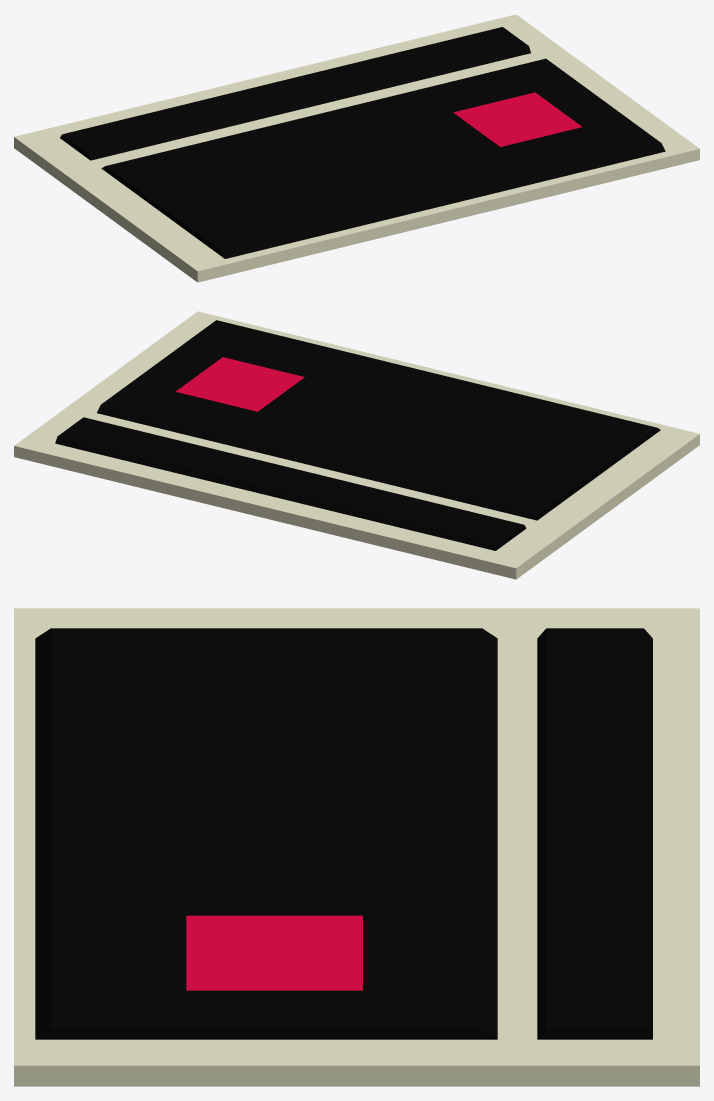
The model's file is StoveFire.fbx.
The picture shows the model from 3 angles, top to bottom: view 1: azimuth 30°, elevation 25°; view 2: azimuth 150°, elevation 25°; view 3: azimuth 270°, elevation 25°; orthographic projection. The views are drawn at different scales.
Visible parts, largest first — view 1: StoveFire1; view 2: StoveFire1; view 3: StoveFire1.
Part boxes in pixels (x1,y1,x2,y2): StoveFire1: (14,14,699,282); StoveFire1: (14,311,699,579); StoveFire1: (14,608,699,1086).
Bounding box in the file's own units: 126 × 4 × 80.
